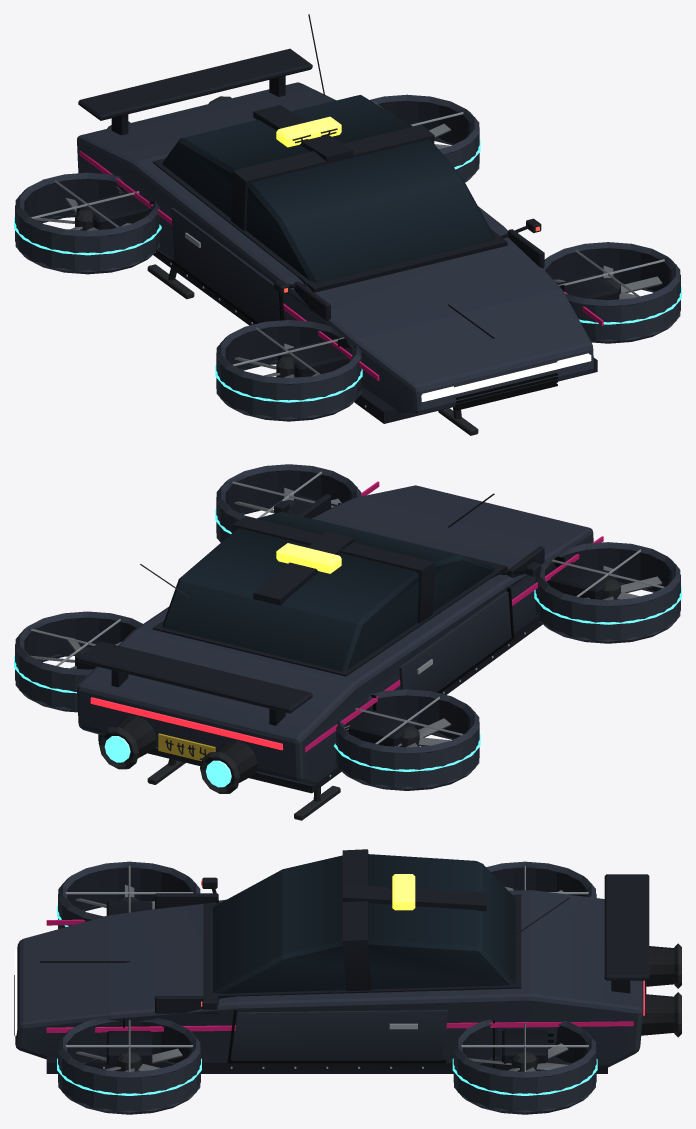
Rendered from cp_hovercar.glb.
3 renders of one model, top to bottom at view 1: azimuth 30°, elevation 25°; view 2: azimuth 150°, elevation 25°; view 3: azimuth 270°, elevation 25°, orthographic.
Parts seen in each view (by area): view 1: cp_hovercar, part_door_l, part_fan_fr, part_fan_rl, part_fan_fl; view 2: cp_hovercar, part_door_l, part_fan_fl, part_fan_rl; view 3: cp_hovercar, part_door_r, part_fan_fr, part_fan_rr.
Part boxes in pixels (x1,y1,x2,y2): cp_hovercar: (14,14,681,435); part_door_l: (171,207,284,323); part_fan_fr: (554,265,662,299); part_fan_rl: (30,198,131,230); part_fan_fl: (234,343,317,377); cp_hovercar: (14,464,681,820); part_door_l: (399,587,514,693); part_fan_fl: (583,565,662,600); part_fan_rl: (394,718,451,747); cp_hovercar: (14,849,681,1114); part_door_r: (227,1010,448,1063); part_fan_fr: (76,1048,182,1071); part_fan_rr: (468,1043,568,1071).
Size of the model in its own units: 3.99 by 1.85 by 5.24.
